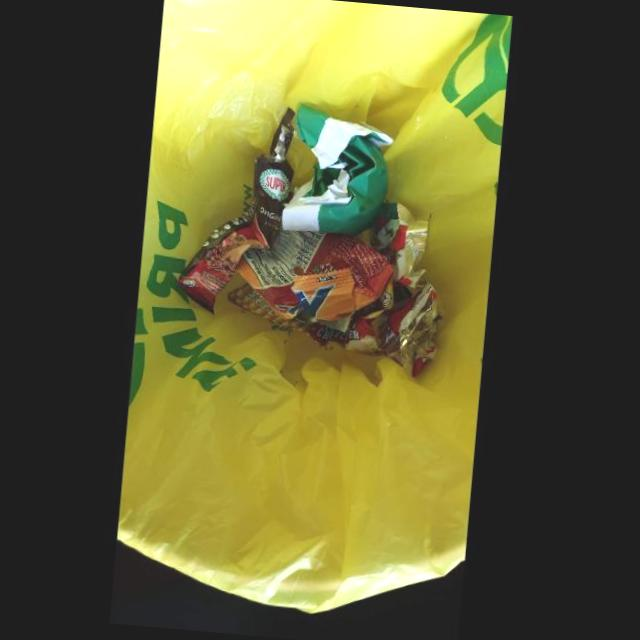bao_bi_thuc_pham: (227, 202, 443, 376), (176, 106, 295, 315)
giay: (281, 103, 393, 236)
